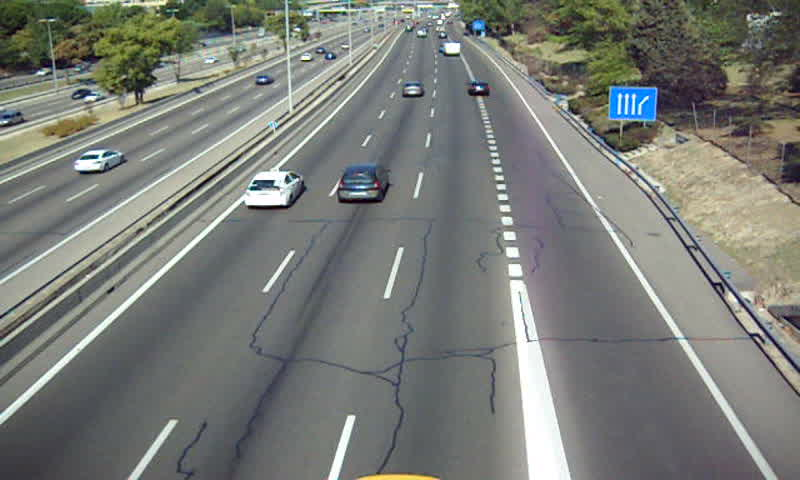car: (246, 171, 304, 207), (337, 165, 390, 201), (401, 80, 424, 98), (466, 82, 490, 96)
van: (444, 42, 462, 55)
